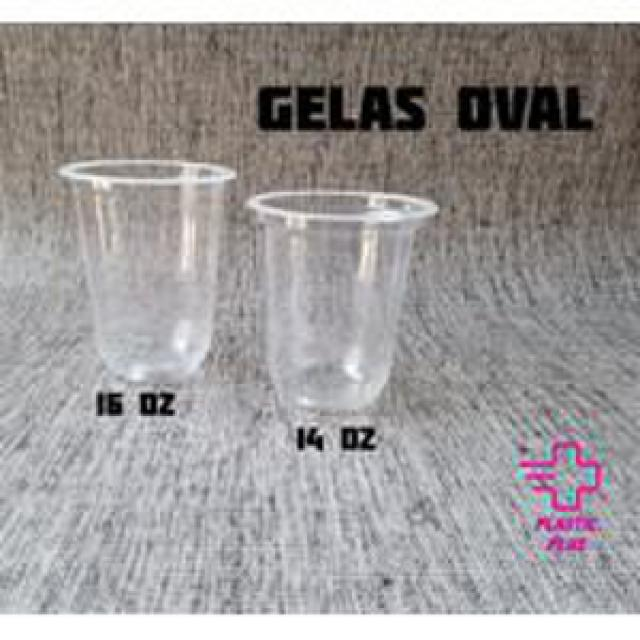plastic cup: (237, 183, 444, 424), (51, 150, 239, 390)
